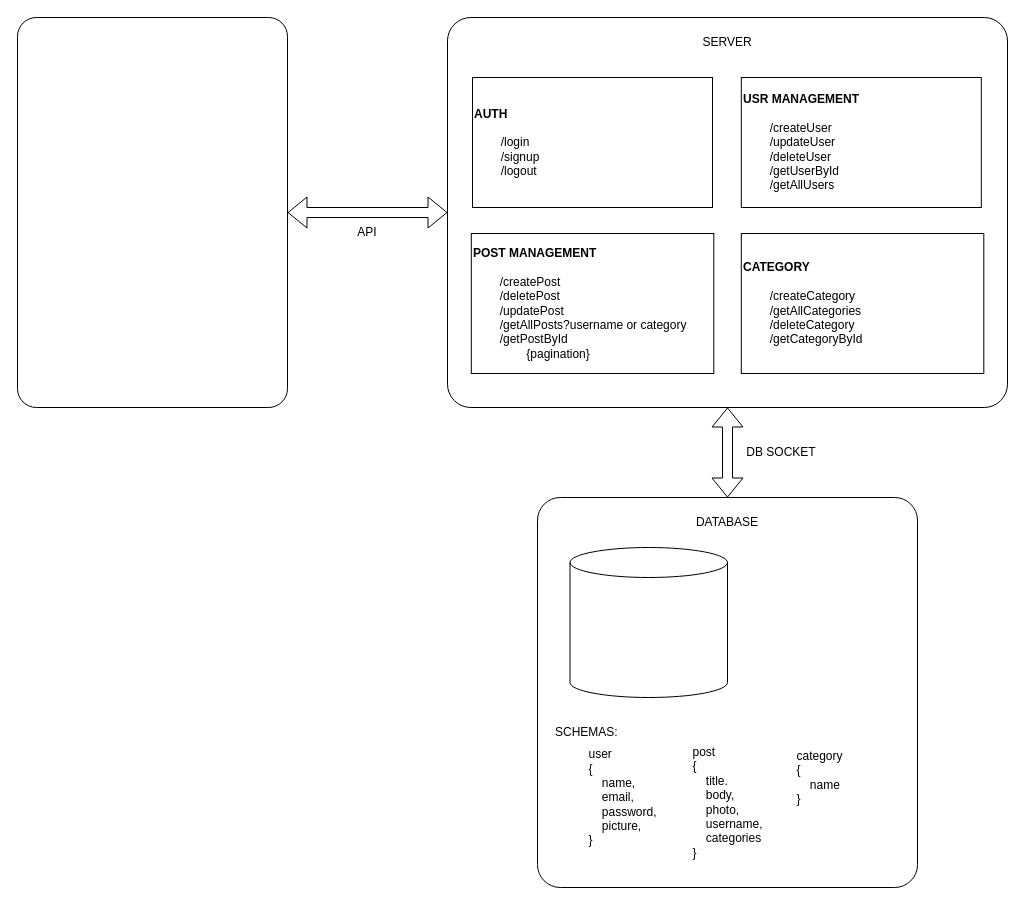
Some shapes in this 1025 by 905 pixel diagram are drawn without their labels. Each missing label, with the centre of its shape:
"CLIENT" belongs at pixel 152 212.
"MongoDB User Post Category" belongs at pixel 648 622.
